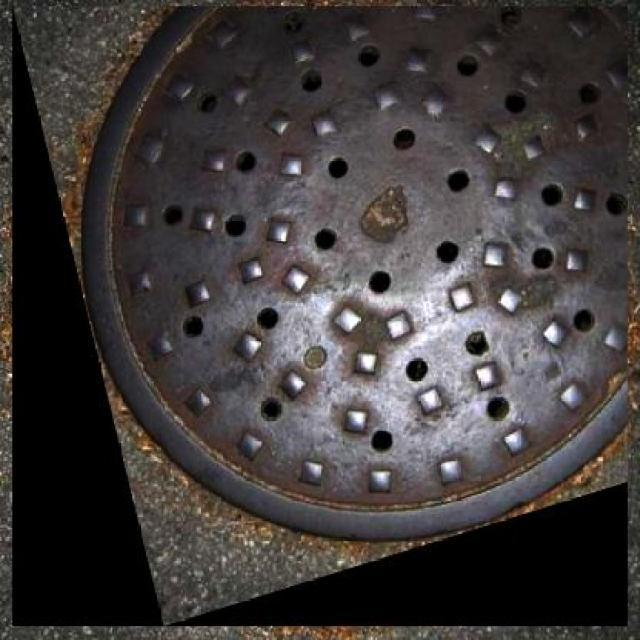Manhole: (12, 6, 628, 626)
